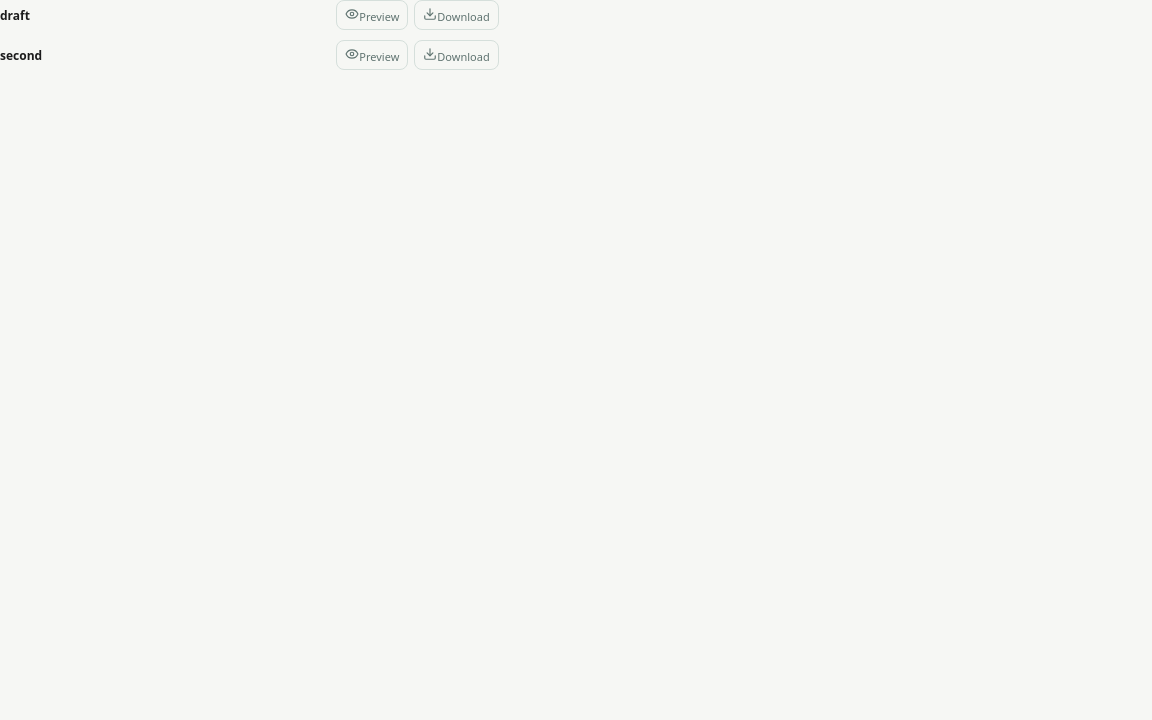
aborts on Escape, preserves the containing Task panel and ignores late content
Click the button with aria-label "Preview: draft": (372, 15) [336, 0, 408, 30]
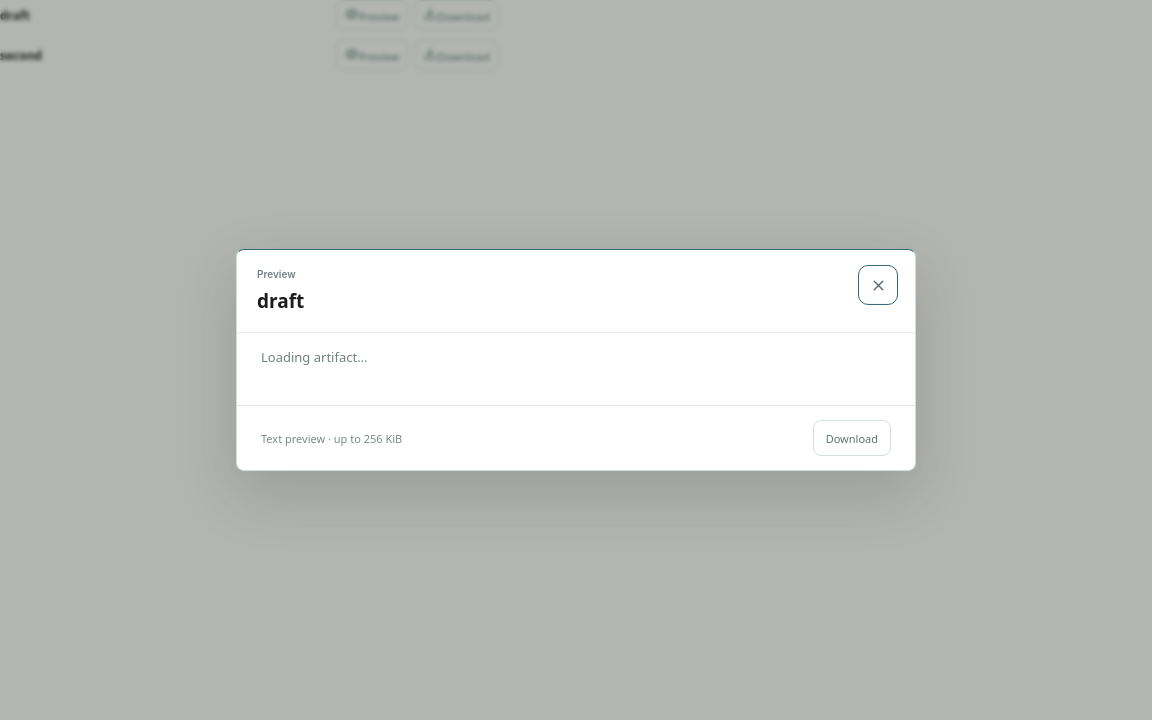
Expected: the dialog "draft" is shown, [236, 249, 916, 471]
Press Escape
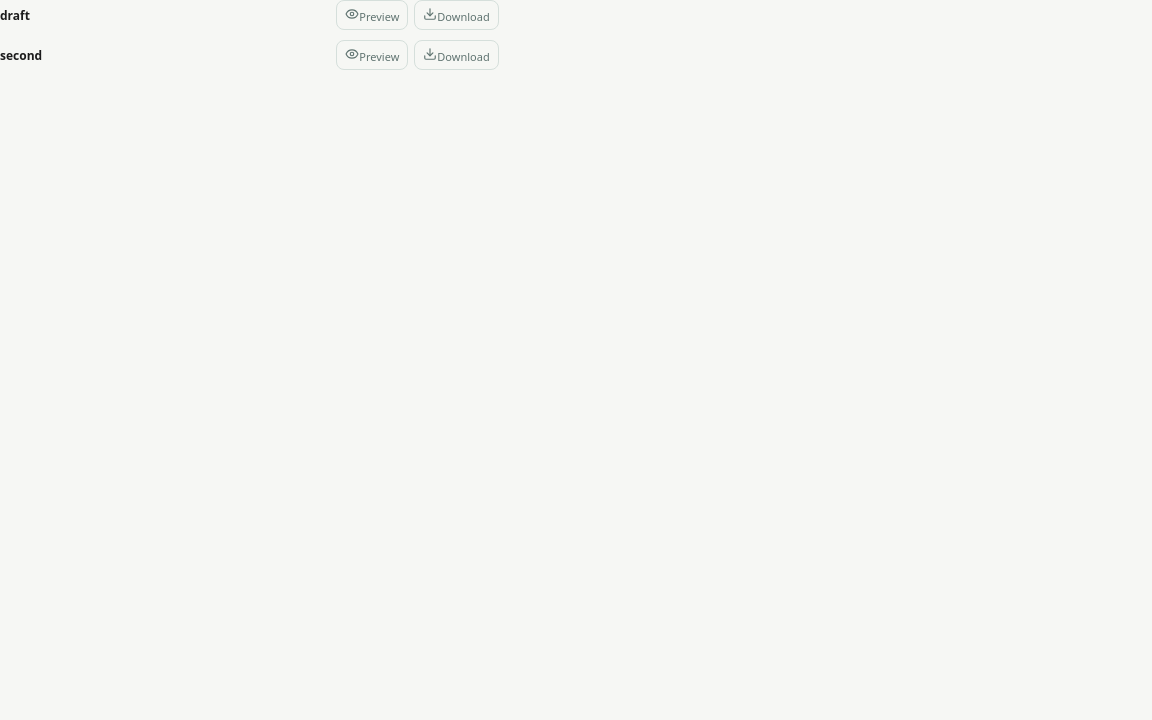
Expected: the dialog is gone
Click the button with aria-label "Preview: second": (372, 55) [336, 40, 408, 70]
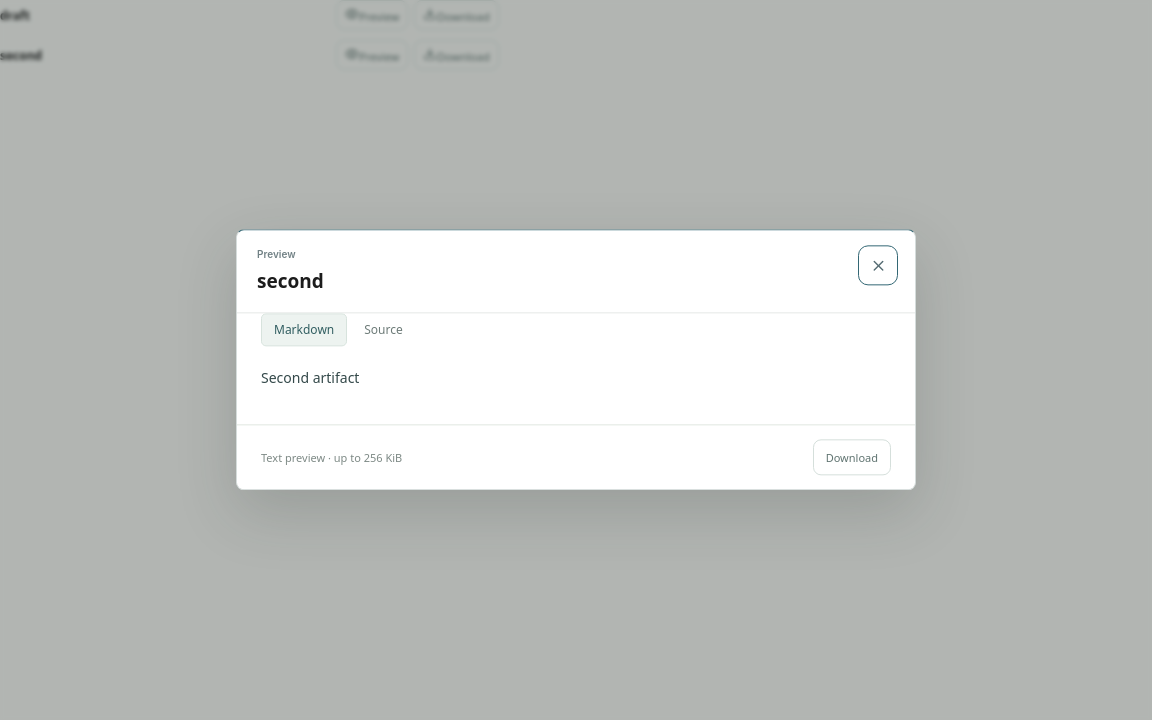
Expected: the text "Second artifact" is shown, [261, 368, 359, 387]
